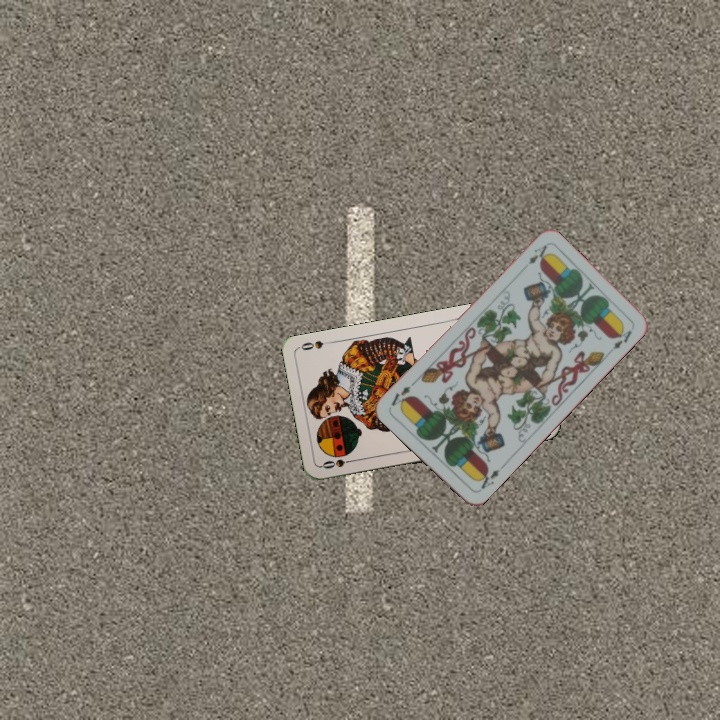EA: (518, 241, 550, 274), (473, 462, 507, 491)
SO: (318, 455, 358, 471)
